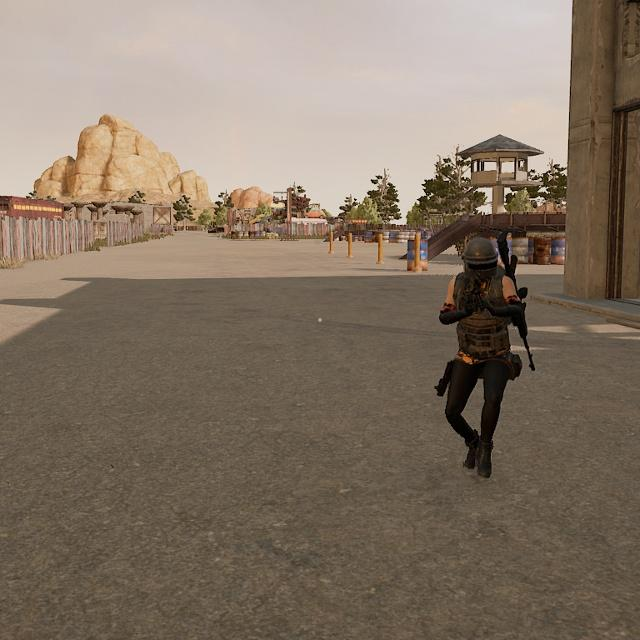head: (460, 235, 504, 285)
people: (432, 232, 533, 483)
